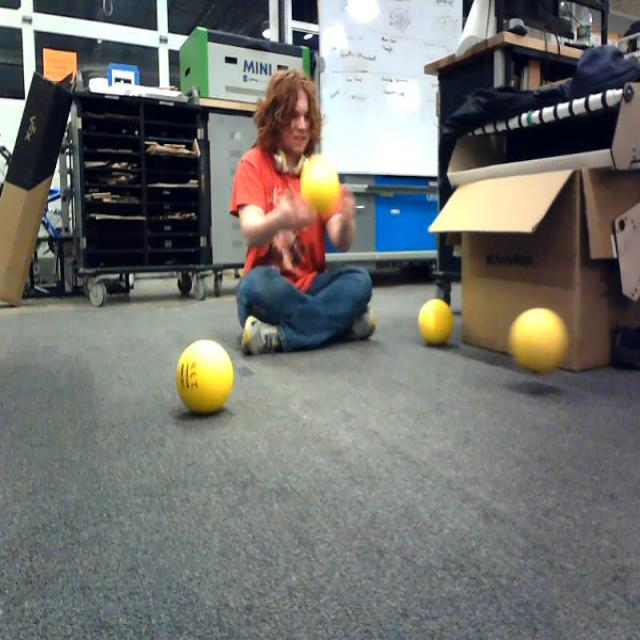Fuel: (175, 339, 234, 415), (512, 307, 567, 375), (300, 158, 338, 215), (418, 298, 454, 347)
